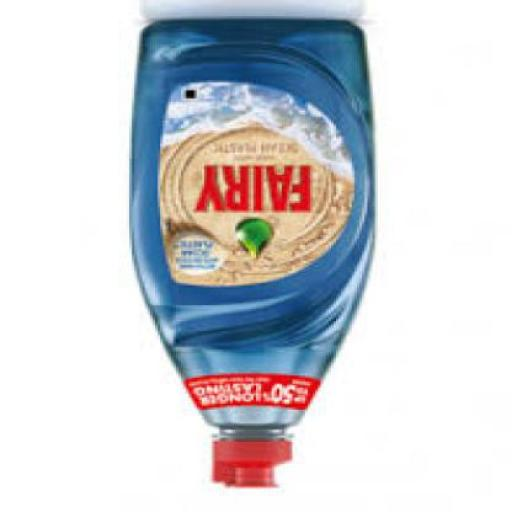plastic: (130, 22, 380, 490), (212, 440, 295, 492)
